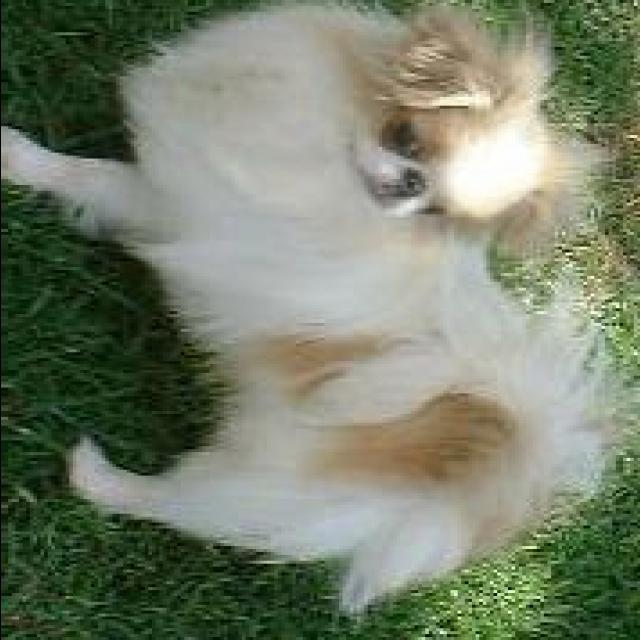husky: (4, 2, 612, 616)
